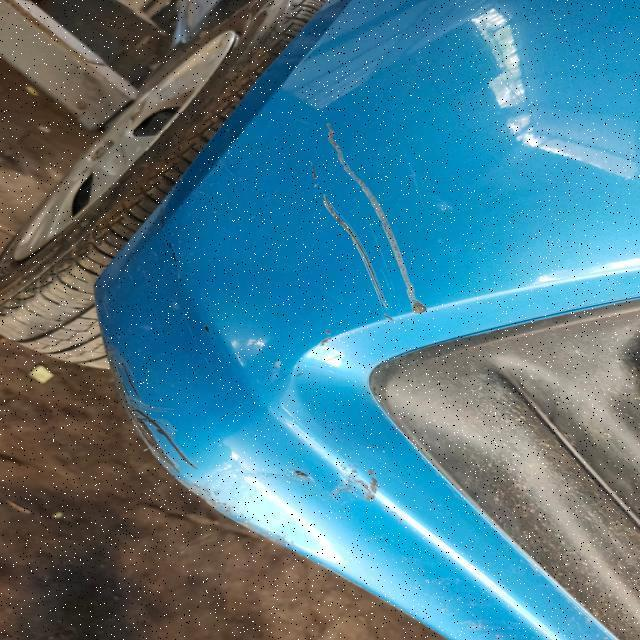front-bumper-dent: (73, 88, 638, 640)
